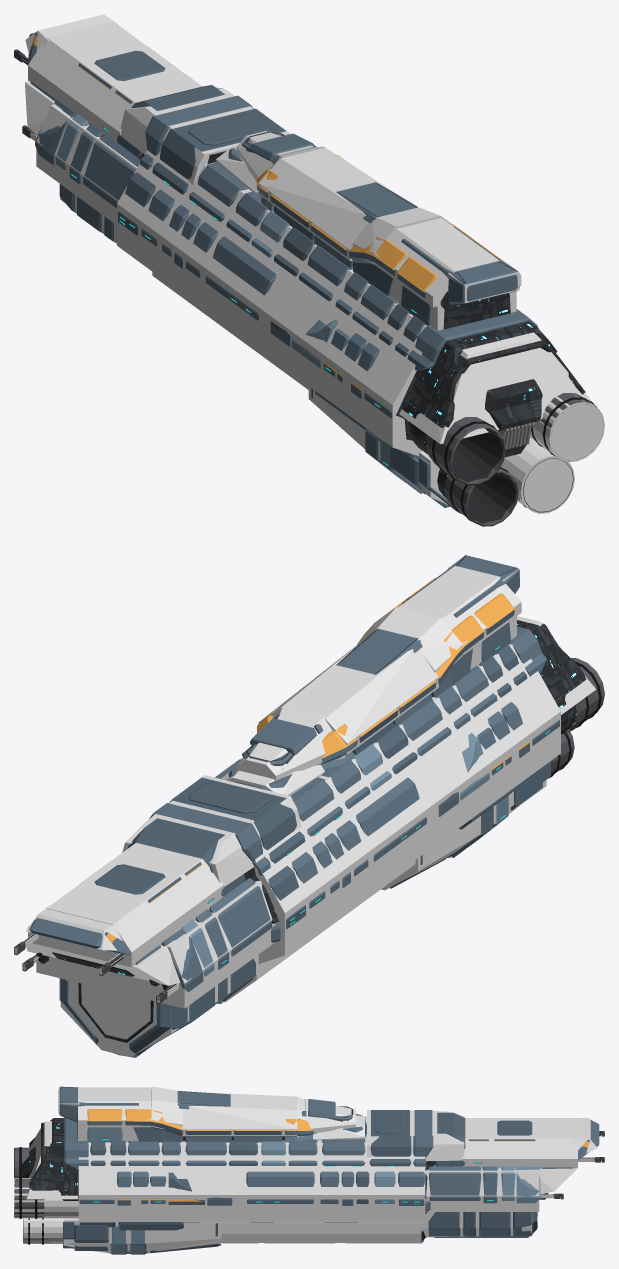
Rendered from SM_Ship_Colossal_01.fbx.
The picture shows the model from 3 angles, top to bottom: view 1: azimuth 30°, elevation 25°; view 2: azimuth 150°, elevation 25°; view 3: azimuth 270°, elevation 25°; orthographic projection. The views are drawn at different scales.
Visible parts, largest first — view 1: SM_Ship_Colossal_01_ConvexHulls, SM_Ship_Colossal_01_LOD0; view 2: SM_Ship_Colossal_01_ConvexHulls, SM_Ship_Colossal_01_LOD0; view 3: SM_Ship_Colossal_01_ConvexHulls, SM_Ship_Colossal_01_LOD0.
Part boxes in pixels (x1,y1,x2,y2): SM_Ship_Colossal_01_ConvexHulls: [22, 14, 604, 513]; SM_Ship_Colossal_01_LOD0: [14, 32, 603, 526]; SM_Ship_Colossal_01_ConvexHulls: [14, 555, 595, 1057]; SM_Ship_Colossal_01_LOD0: [14, 555, 604, 1057]; SM_Ship_Colossal_01_ConvexHulls: [14, 1086, 604, 1253]; SM_Ship_Colossal_01_LOD0: [14, 1086, 604, 1254].
Size of the model in its own units: 61178 by 12818 by 17616.
Materials: 1 (1 with a texture image).
